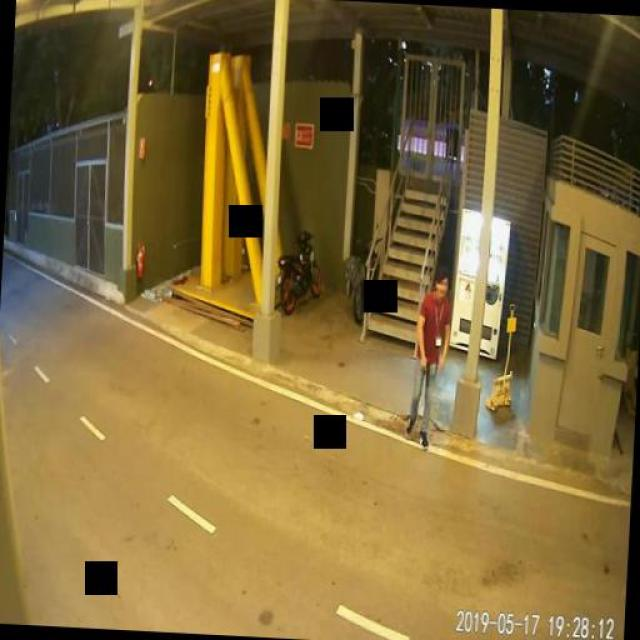gun: (419, 356, 430, 385)
